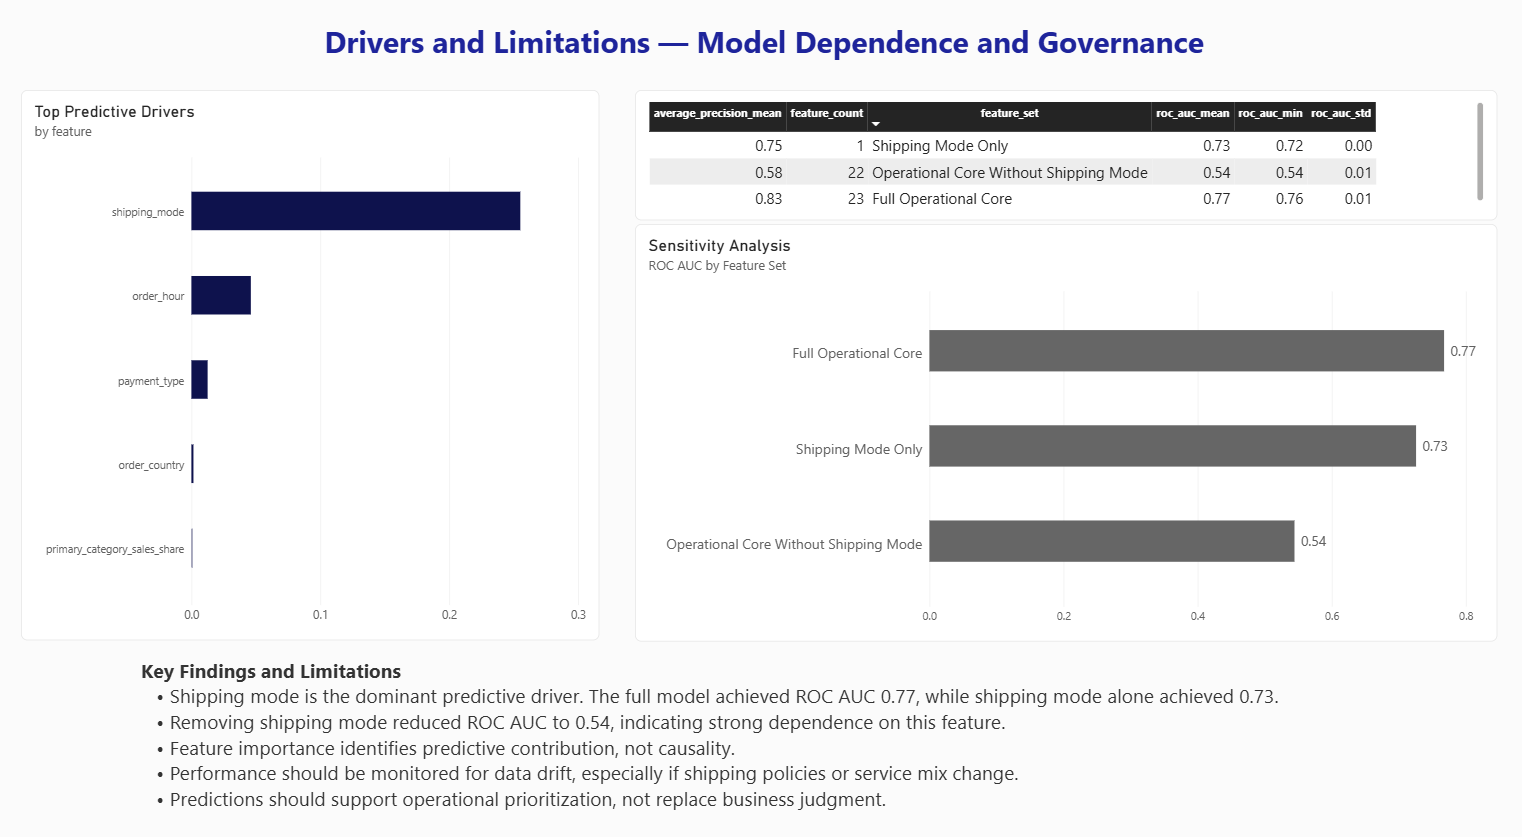

The page's visual inventory and layout, read from the dashboard file:
{"tool":"powerbi","page":{"name":"04 Drivers and Limitations","canvas":[1920,1080],"ordinal":3},"visuals":[{"type":"clusteredBarChart","title":"Top Predictive Drivers","fields":{"Category":["feature_importance.feature"],"Y":["Avg(feature_importance.mean_auc_decrease)"]},"box":[33.3,121.7,723.3,688.3],"z":0},{"type":"tableEx","fields":{"Values":["sensitivity_summary.average_precision_mean","sensitivity_summary.feature_count","sensitivity_summary.feature_set","sensitivity_summary.roc_auc_mean","sensitivity_summary.roc_auc_min","sensitivity_summary.roc_auc_std"]},"box":[801.7,121.7,1078.3,163.3],"z":1000},{"type":"clusteredBarChart","title":"Sensitivity Analysis ","fields":{"Category":["sensitivity_summary.feature_set"],"Y":["Avg(sensitivity_summary.roc_auc_mean)"]},"box":[801.7,288.3,1078.3,521.7],"z":2000},{"type":"textbox","box":[183.3,830,1651.7,233.3],"z":3000},{"type":"textbox","box":[155,35,1605,86.7],"z":4000}]}

Visuals, with their boxes in screenshot pixels (x1, y1, x2, y2), scaled from the page's 1920x1080 canvas onto the 1522x837 screenshot:
"Top Predictive Drivers" clusteredBarChart: rect(26, 94, 600, 628)
tableEx - sensitivity_summary.average_precision_mean x sensitivity_summary.feature_count: rect(636, 94, 1490, 221)
"Sensitivity Analysis " clusteredBarChart: rect(636, 223, 1490, 628)
textbox: rect(145, 643, 1455, 824)
textbox: rect(123, 27, 1395, 94)
